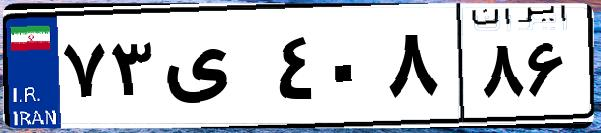0: (330, 28, 385, 110)
3: (110, 28, 158, 98)
4: (270, 28, 330, 110)
6: (525, 38, 570, 115)
7: (57, 26, 110, 100)
8: (385, 28, 445, 110), (475, 38, 525, 113)
ی: (158, 20, 270, 120)
